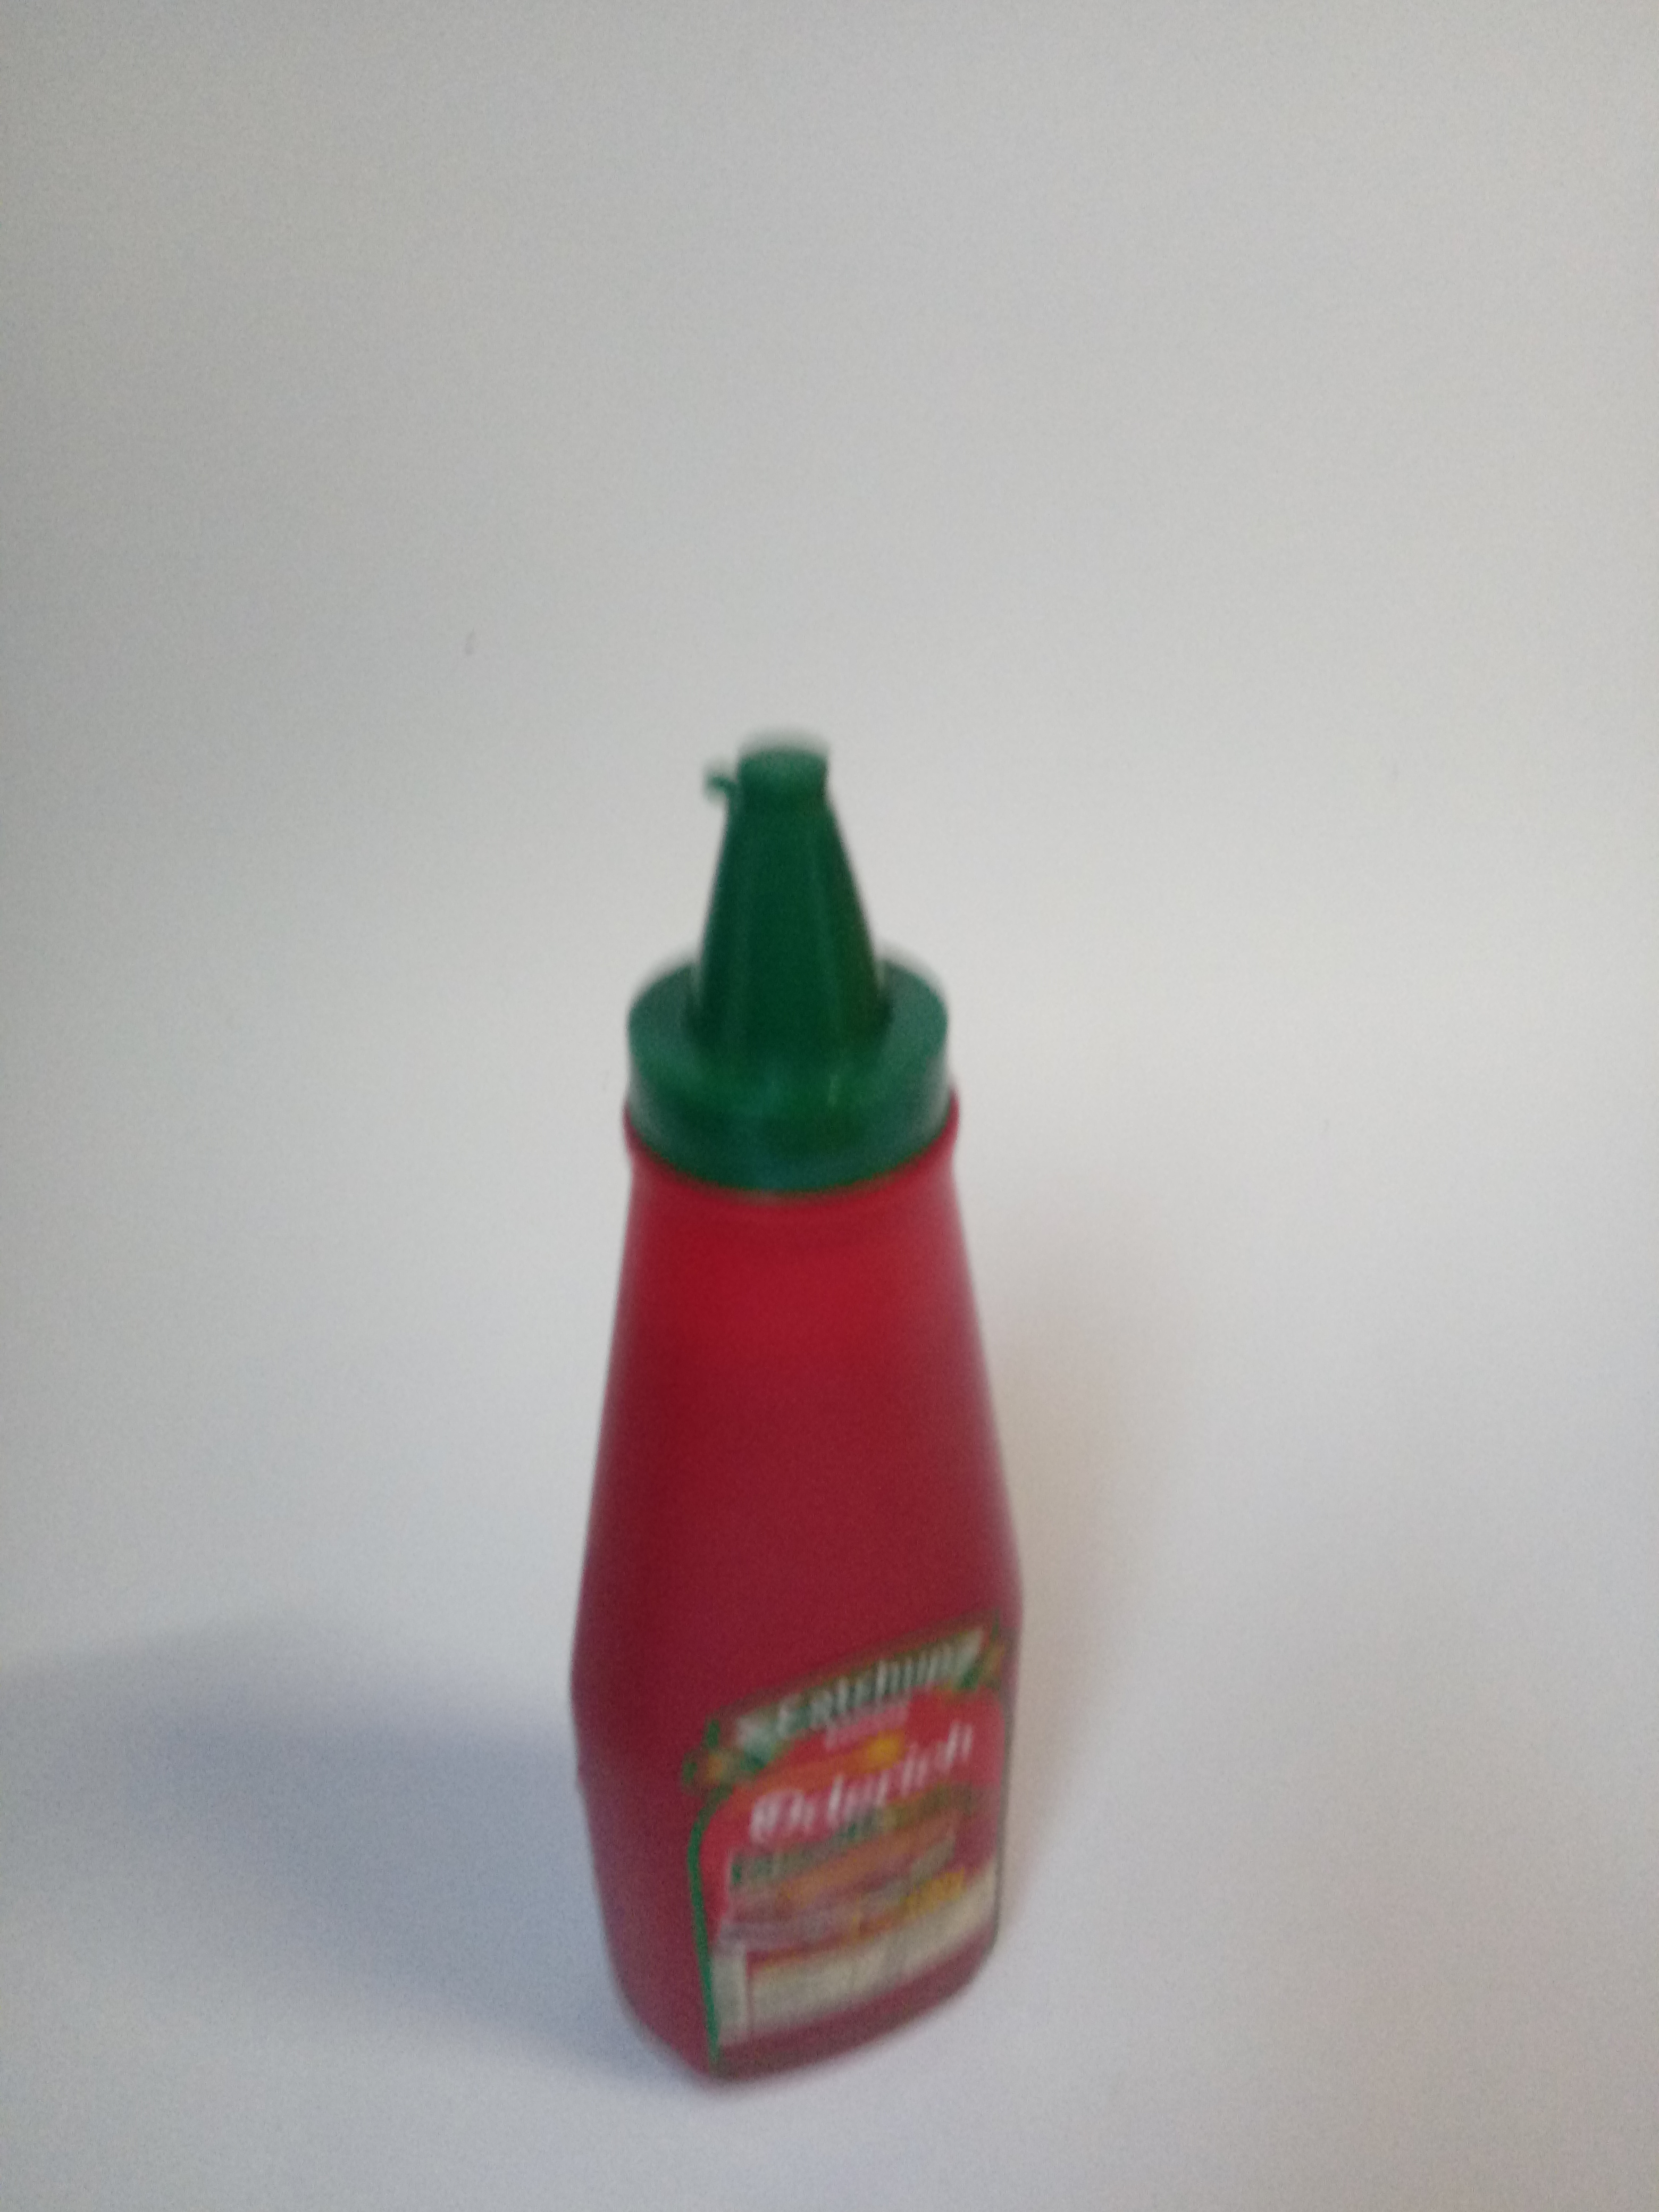catchup-oderich: (481, 725, 1068, 2114)
